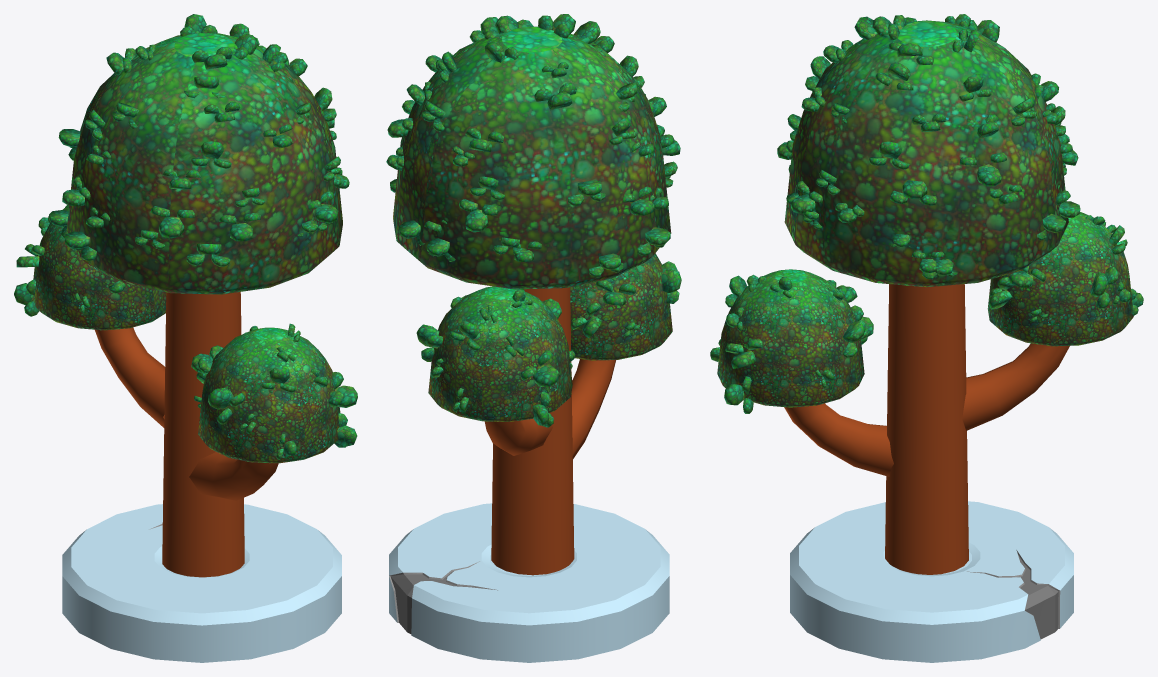
The model's file is BushyTree2.fbx.
3 views of the same model, side by side, from view 1: azimuth 30°, elevation 25°; view 2: azimuth 150°, elevation 25°; view 3: azimuth 270°, elevation 25° (orthographic).
Visible parts, largest first — view 1: BushyTree2_LOD0; view 2: BushyTree2_LOD0; view 3: BushyTree2_LOD0.
Boxes of the visible parts, x1,y1,x2,y2 form: BushyTree2_LOD0: [14, 14, 357, 662]; BushyTree2_LOD0: [386, 14, 681, 662]; BushyTree2_LOD0: [710, 14, 1143, 662].
Size of what is drawn, in the model's own units: 1419 by 2868 by 1947.
